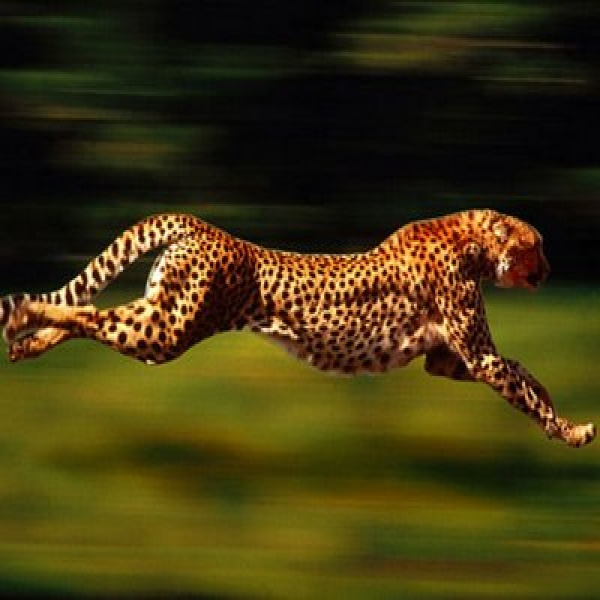Cheetah: (3, 201, 600, 449)
